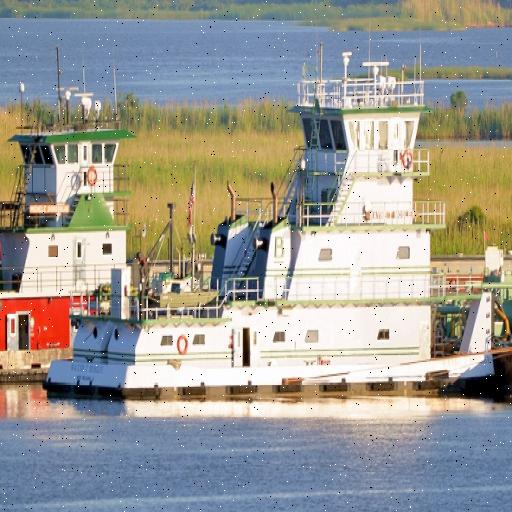tugboat: (37, 48, 501, 422)
